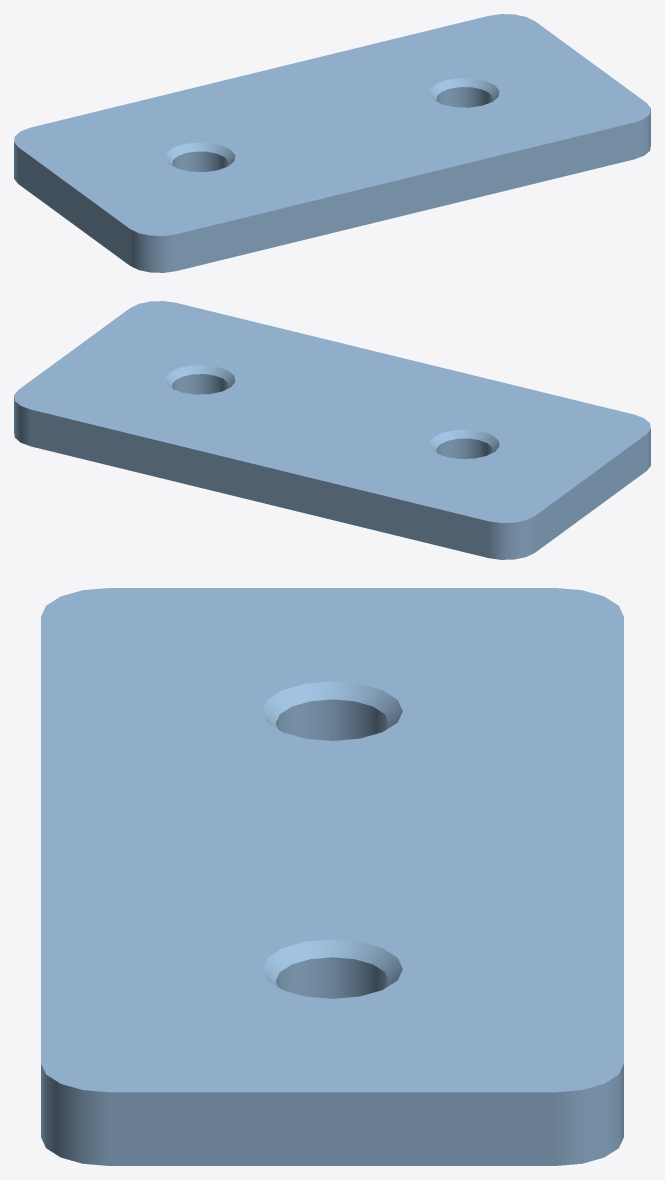
3 renders of one model, top to bottom at view 1: azimuth 30°, elevation 25°; view 2: azimuth 150°, elevation 25°; view 3: azimuth 270°, elevation 25°, orthographic. The views are drawn at different scales.
Parts seen in each view (by area): view 1: mesh13967, mesh13972, mesh13975, mesh13969, mesh13964, mesh13978, mesh13965, mesh13977, mesh13971; view 2: mesh13967, mesh13974, mesh13975, mesh13968, mesh13964, mesh13978, mesh13965, mesh13977, mesh13970; view 3: mesh13967, mesh13973, mesh13970, mesh13971, mesh13978, mesh13964, mesh13977, mesh13965.
Part boxes in pixels (left/top/right/bottom): mesh13967: left=14, top=14, right=650, bottom=235; mesh13972: left=176, top=122, right=634, bottom=270; mesh13975: left=18, top=147, right=129, bottom=265; mesh13969: left=130, top=229, right=176, bottom=272; mesh13964: left=172, top=151, right=228, bottom=171; mesh13978: left=436, top=87, right=492, bottom=107; mesh13965: left=165, top=142, right=235, bottom=166; mesh13977: left=429, top=78, right=499, bottom=101; mesh13971: left=634, top=109, right=650, bottom=159; mesh13967: left=14, top=301, right=650, bottom=522; mesh13974: left=30, top=409, right=488, bottom=557; mesh13975: left=535, top=434, right=646, bottom=552; mesh13968: left=488, top=516, right=534, bottom=559; mesh13964: left=436, top=438, right=492, bottom=458; mesh13978: left=172, top=374, right=228, bottom=394; mesh13965: left=429, top=429, right=499, bottom=453; mesh13977: left=165, top=365, right=235, bottom=388; mesh13970: left=14, top=396, right=30, bottom=446; mesh13967: left=41, top=588, right=623, bottom=1092; mesh13973: left=108, top=1092, right=556, bottom=1165; mesh13970: left=556, top=1064, right=623, bottom=1165; mesh13971: left=41, top=1064, right=108, bottom=1165; mesh13978: left=275, top=957, right=389, bottom=998; mesh13964: left=275, top=699, right=389, bottom=740; mesh13977: left=262, top=939, right=402, bottom=986; mesh13965: left=262, top=681, right=402, bottom=728.
Size of the model in its own units: 0.088 by 0.006 by 0.043.
